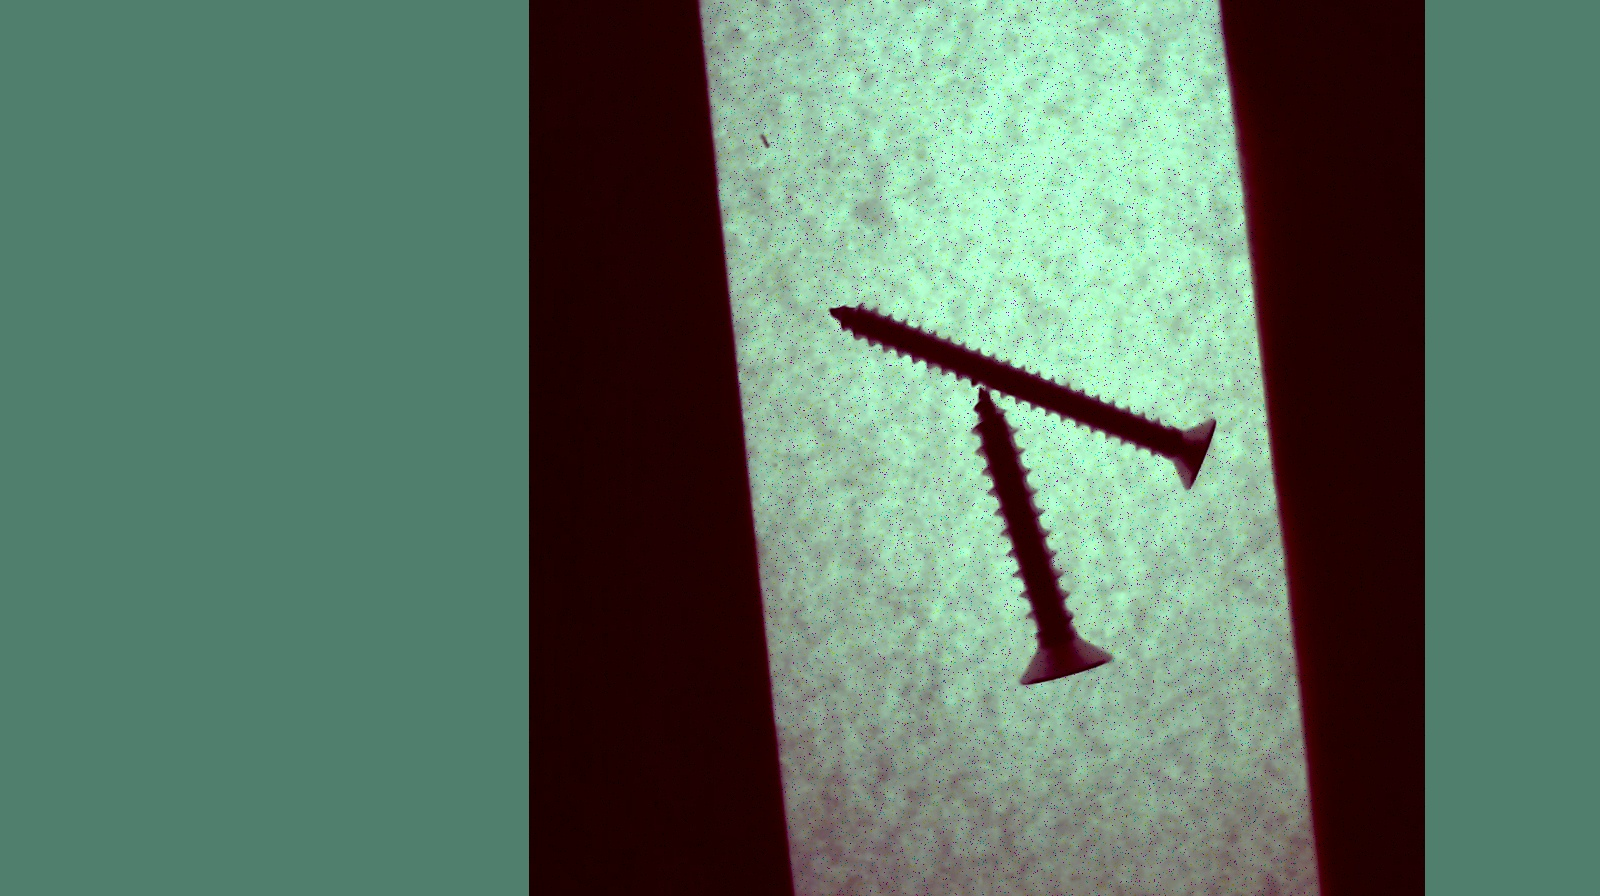S001: (973, 383, 1114, 692)
S002: (831, 306, 1223, 491)
